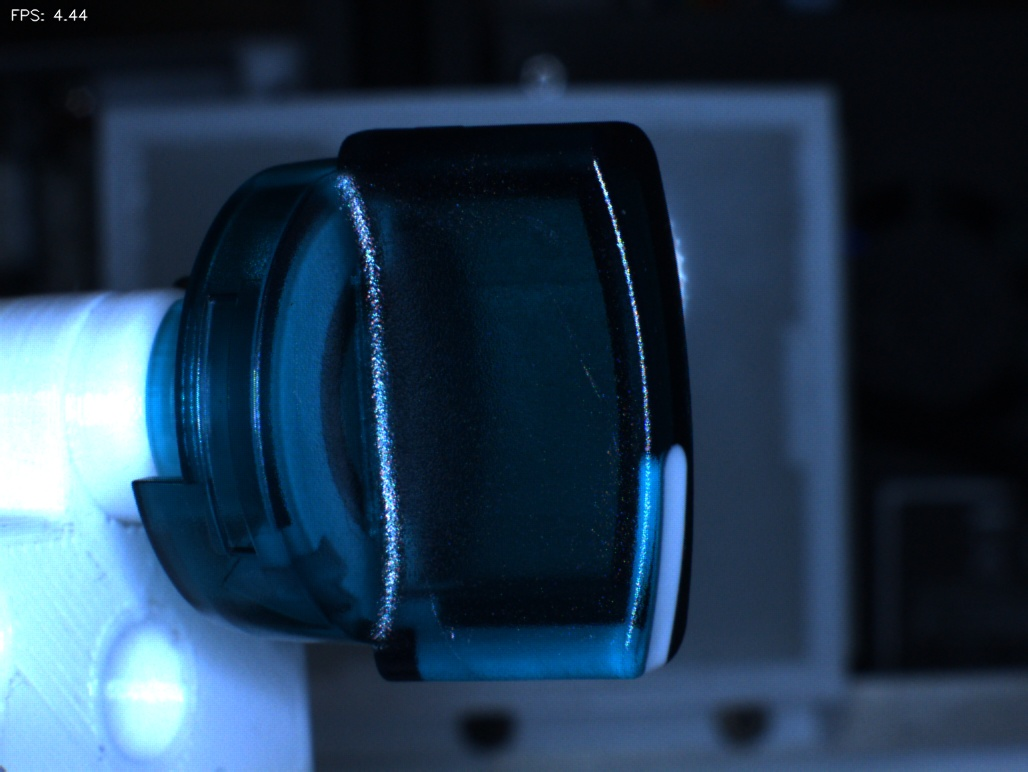Givrage: (549, 301, 627, 439)
